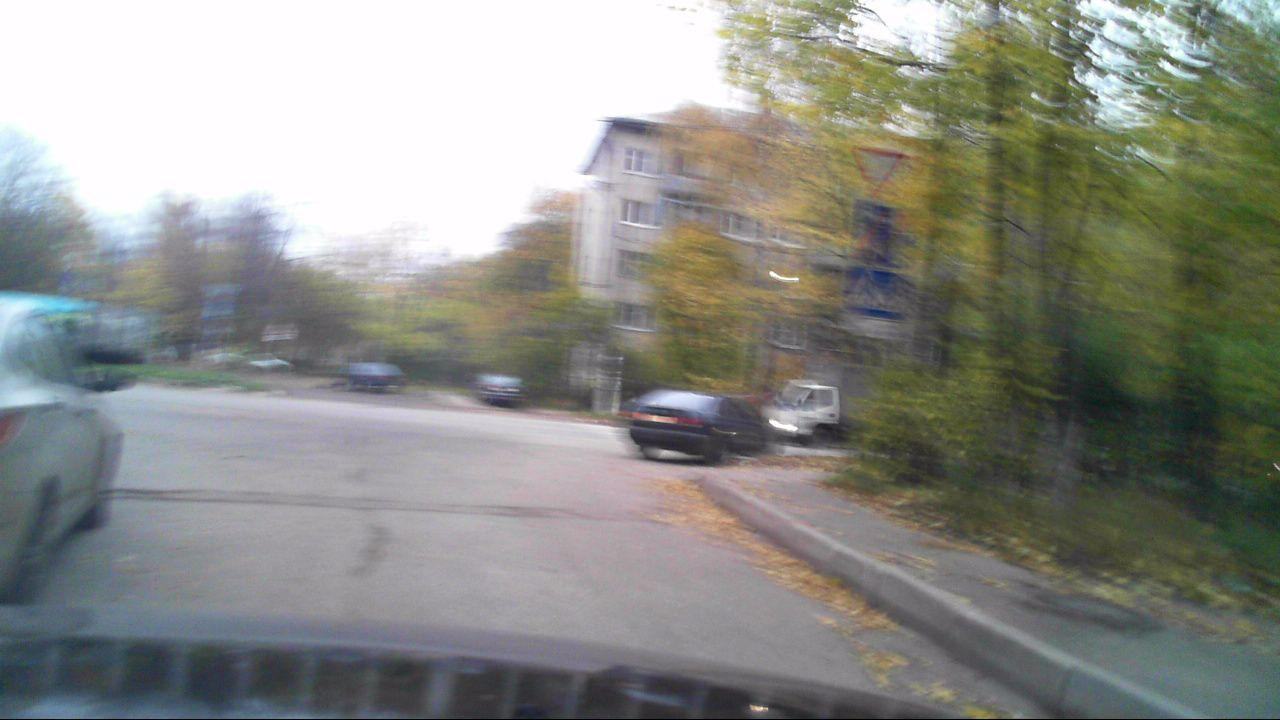2_4: (849, 142, 903, 199)
5_19_1: (849, 266, 903, 315)
5_22: (854, 203, 896, 262)
